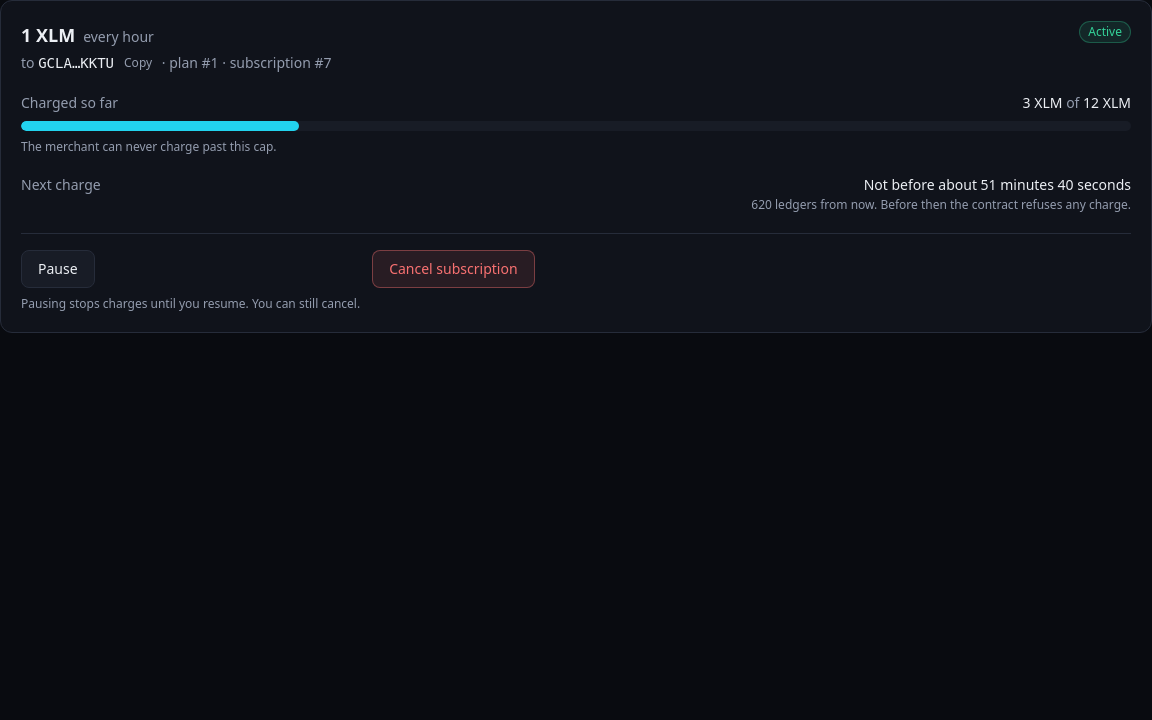
Test: SubscriptionCard › cancels only after the second, explicit confirmation
Click the button "Cancel subscription" at (453, 269), box [372, 250, 534, 288]
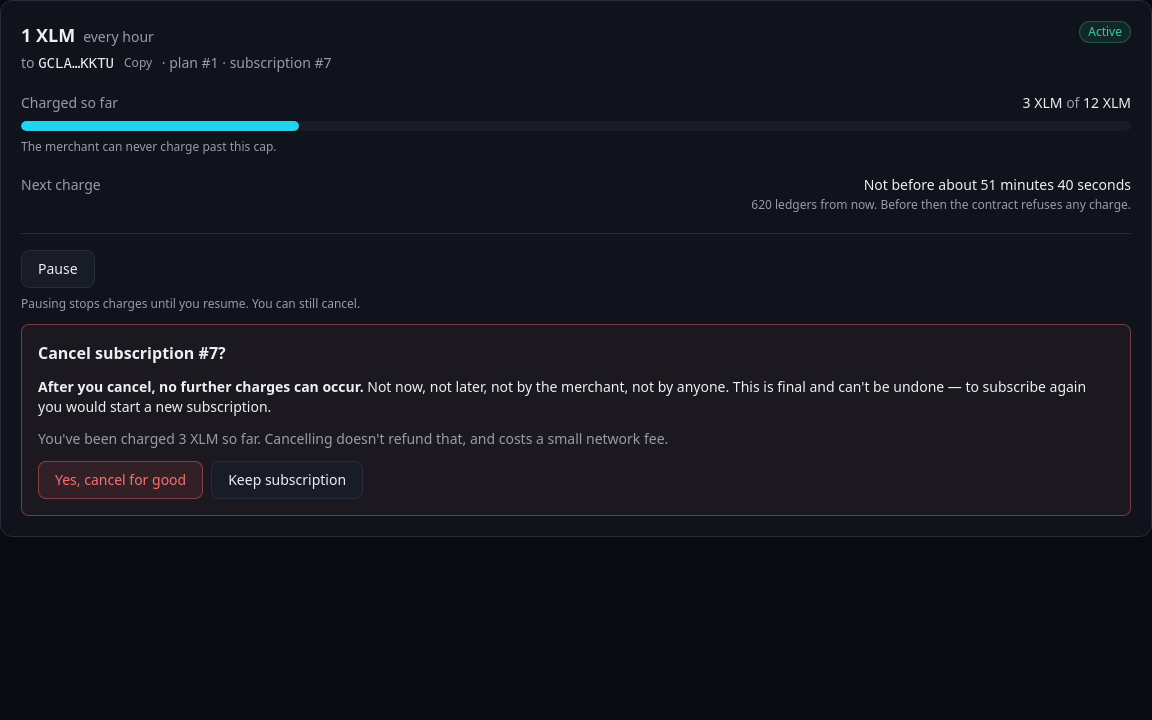
Click the button "Yes, cancel for good" at (121, 480), box [38, 461, 203, 499]
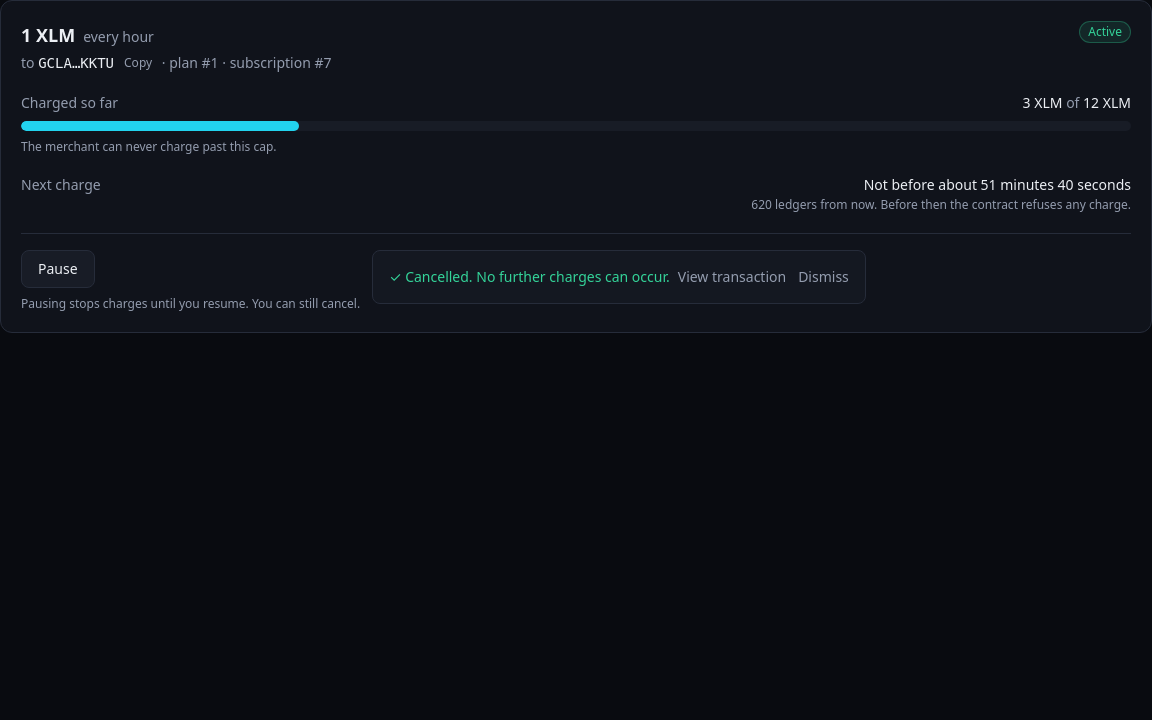
Now the text "✓ Cancelled. No further charges can occur." is shown, box [389, 267, 670, 287]
